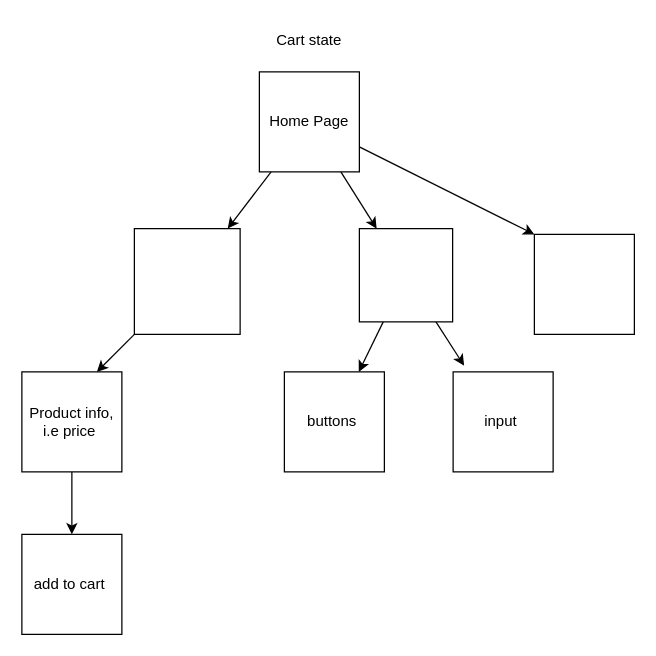
The diagram is 656 pixels wide and 656 high, and some of its shapes have lost their labels. The centre of each missing label's shape, as x and y in pixels:
"Cart" belongs at point 583,283.
"Product list" belongs at point 186,280.
"Search Bar" belongs at point 405,274.
